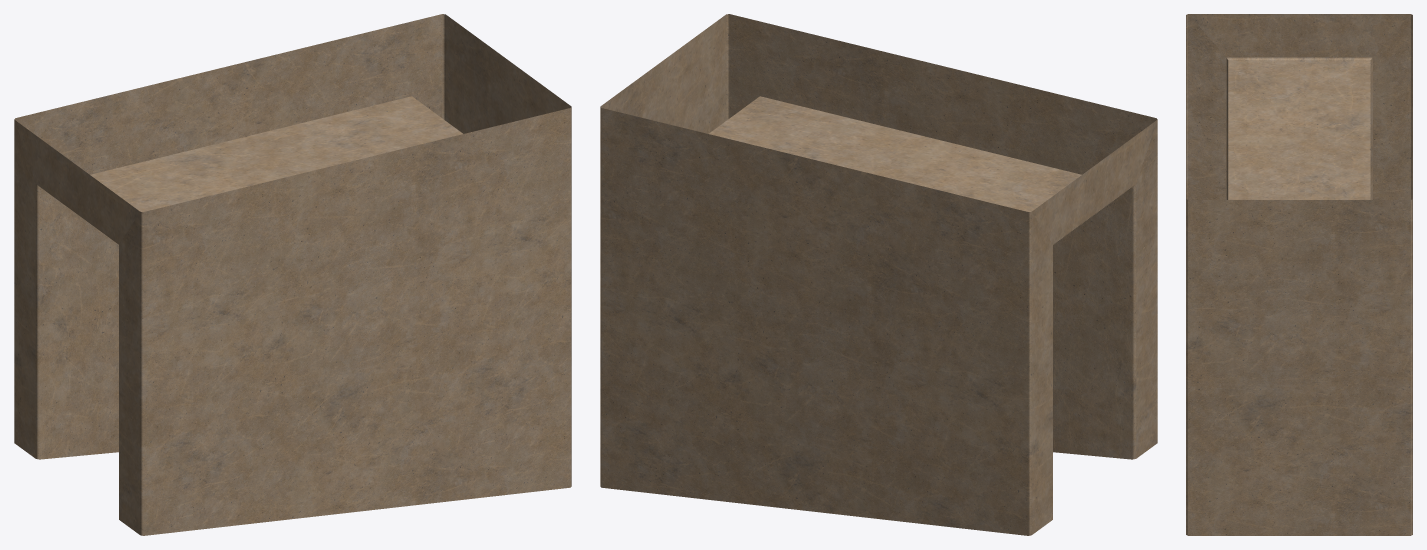
File: SM_MausoleumWallsB.fbx
3 views of the same model, side by side, from view 1: azimuth 30°, elevation 25°; view 2: azimuth 150°, elevation 25°; view 3: azimuth 270°, elevation 25° (orthographic). The views are drawn at different scales.
Visible parts, largest first — view 1: SM_MausoleumWallsB_LOD0; view 2: SM_MausoleumWallsB_LOD0; view 3: SM_MausoleumWallsB_LOD0.
Boxes of the visible parts, <box> form: SM_MausoleumWallsB_LOD0: <box>14,14,571,535</box>; SM_MausoleumWallsB_LOD0: <box>600,14,1157,535</box>; SM_MausoleumWallsB_LOD0: <box>1186,14,1412,535</box>.
Bounding box in the file's own units: 286 × 147 × 241.
1 material, 1 textured.
